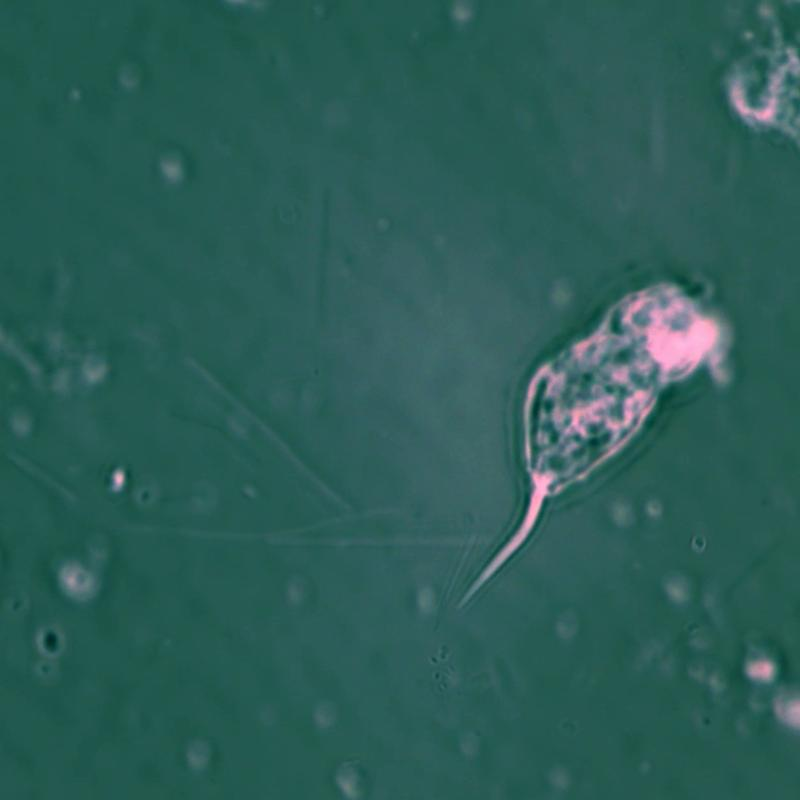depth:0: (432, 248, 752, 646)
